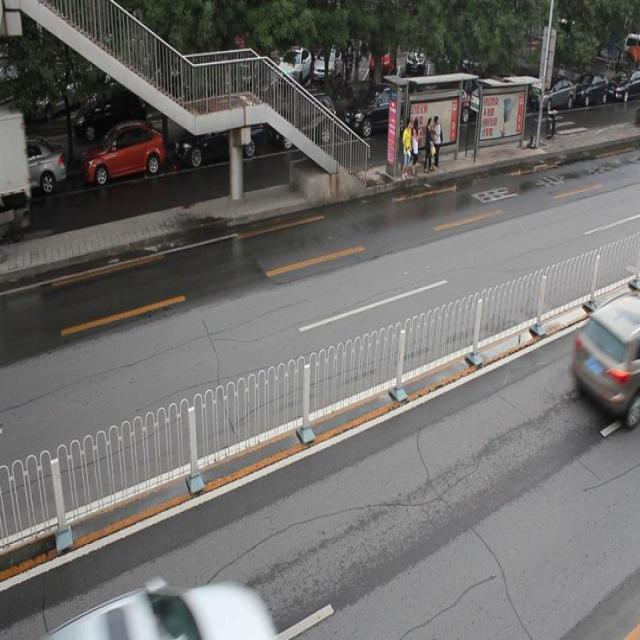bus: (1, 107, 31, 240)
car: (45, 576, 279, 640), (573, 293, 640, 424), (175, 103, 262, 165), (82, 122, 166, 186), (343, 80, 412, 138), (1, 137, 65, 197), (272, 93, 335, 150)
